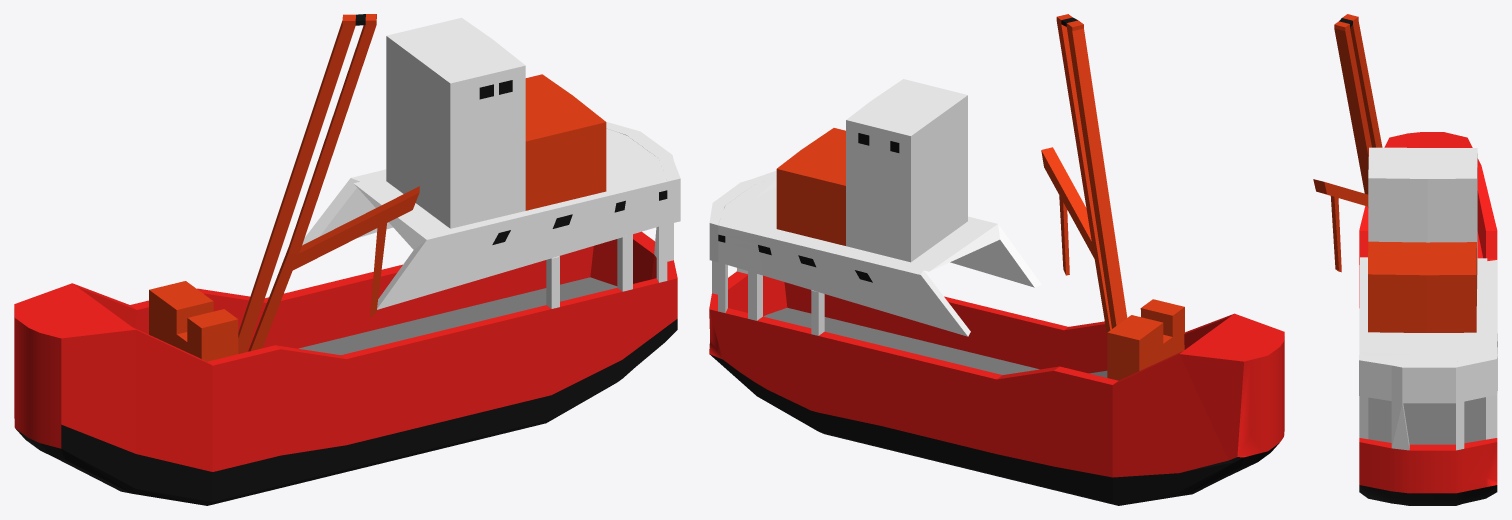
Rendered from boat export.fbx.
The picture shows the model from 3 angles, left to right: view 1: azimuth 30°, elevation 25°; view 2: azimuth 150°, elevation 25°; view 3: azimuth 270°, elevation 25°; orthographic projection. The views are drawn at different scales.
Parts seen in each view (by area): view 1: Box001; view 2: Box001; view 3: Box001.
Part boxes in pixels (x1,y1,x2,y2): Box001: [14, 14, 680, 505]; Box001: [709, 14, 1284, 505]; Box001: [1313, 14, 1497, 505].
Size of the model in its own units: 164 by 117 by 49.52.
